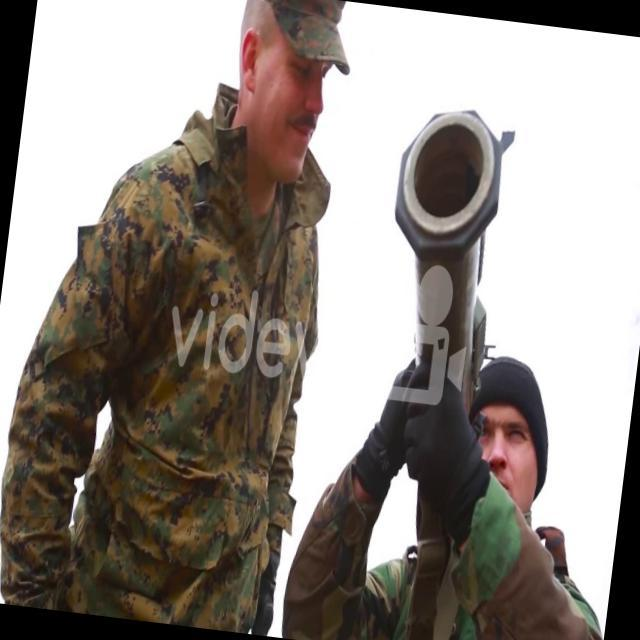rocket: (370, 98, 520, 423)
